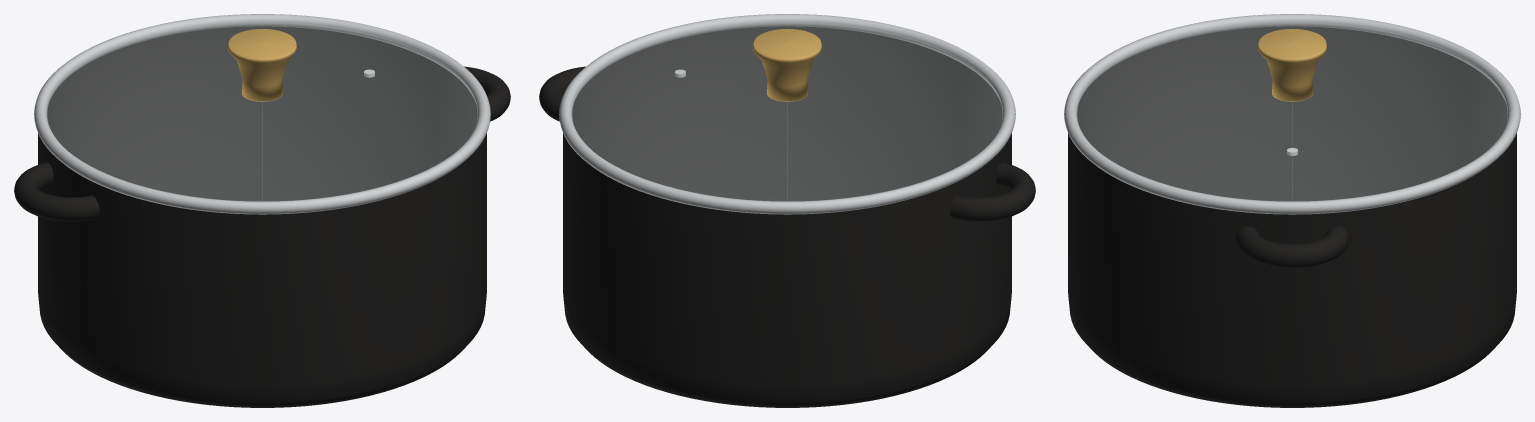
The model's file is noblesse.glb.
The picture shows the model from 3 angles, left to right: view 1: azimuth 30°, elevation 25°; view 2: azimuth 150°, elevation 25°; view 3: azimuth 270°, elevation 25°; orthographic projection.
Visible parts, largest first — view 1: Shell, LidGlass, Interior, LidRim, Handle (×2), Knob; view 2: Shell, LidGlass, Interior, LidRim, Handle (×2), Knob; view 3: Shell, LidGlass, Interior, LidRim, Knob, Handle.
Part boxes in pixels (x1,y1,x2,y2): Shell: (38,133,486,407); LidGlass: (47,22,477,200); Interior: (47,26,477,201); LidRim: (34,14,490,214); Handle (×2): (14,66,510,221); Knob: (228,29,296,101); Shell: (563,133,1011,407); LidGlass: (572,22,1002,200); Interior: (572,26,1002,201); LidRim: (559,14,1015,214); Handle (×2): (539,66,1035,221); Knob: (753,29,821,101); Shell: (1068,133,1516,407); LidGlass: (1077,22,1507,200); Interior: (1077,26,1507,201); LidRim: (1064,14,1520,214); Knob: (1258,29,1326,101); Handle: (1235,226,1349,268).
Bounding box in the file's own units: 0.297 × 0.1644 × 0.244.
